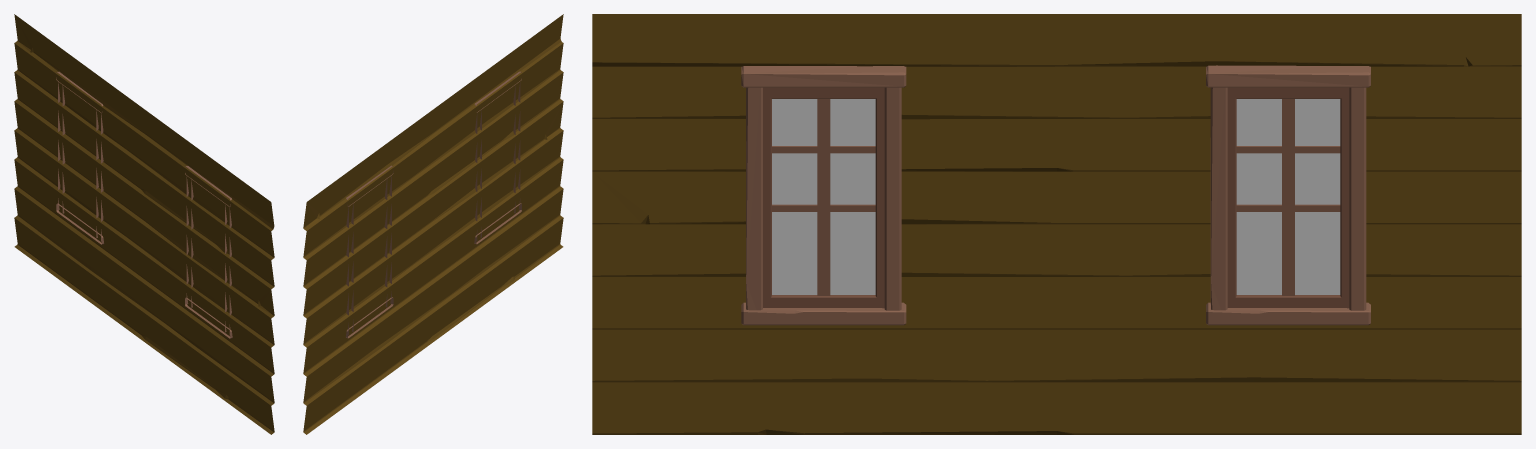
Rendered from BG_WoodPanel_02.fbx.
3 renders of one model, left to right at view 1: azimuth 30°, elevation 25°; view 2: azimuth 150°, elevation 25°; view 3: azimuth 270°, elevation 25°, orthographic. The views are drawn at different scales.
Parts seen in each view (by area): view 1: BG_WoodPanel_02; view 2: BG_WoodPanel_02; view 3: BG_WoodPanel_02.
Boxes of the visible parts, x1,y1,x2,y2 form: BG_WoodPanel_02: (14, 14, 274, 434); BG_WoodPanel_02: (303, 14, 563, 434); BG_WoodPanel_02: (592, 14, 1521, 434).
Bounding box in the file's own units: 2 × 40 × 80.
1 material, 1 textured.
